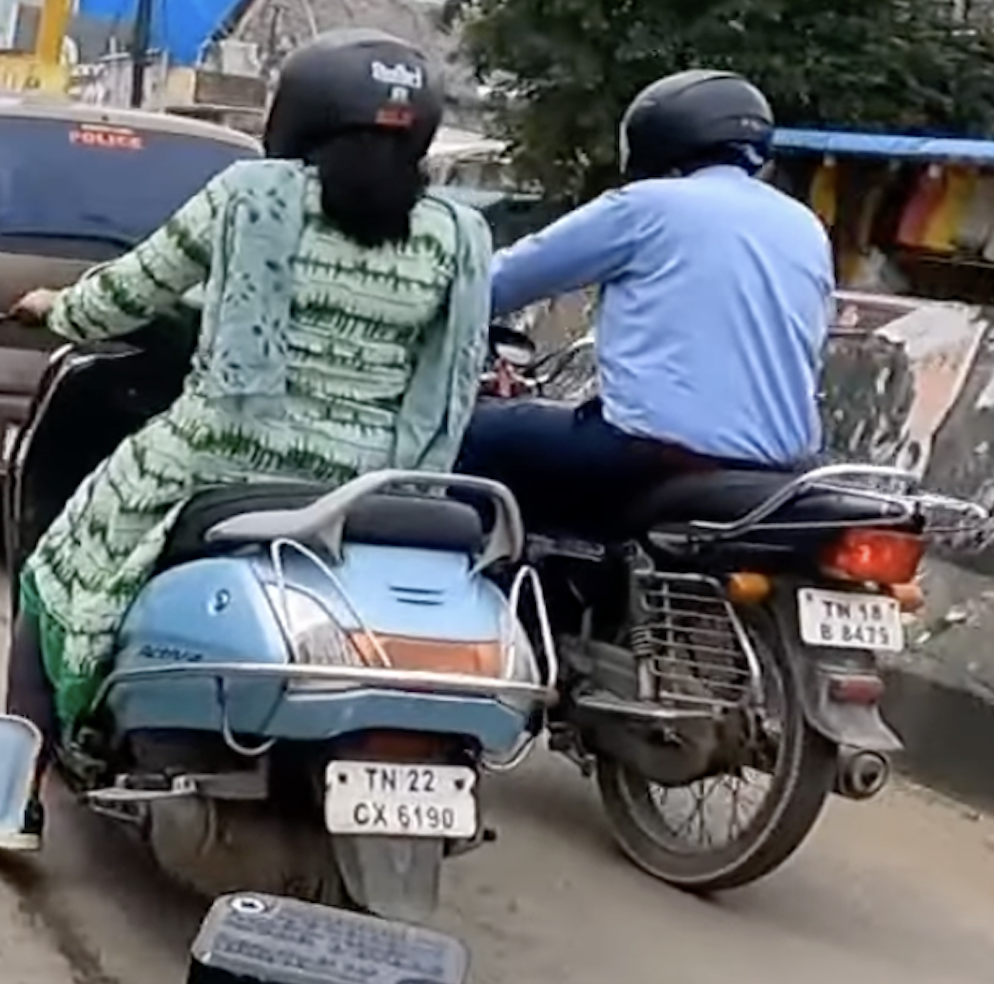motor: (5, 280, 547, 928), (469, 315, 936, 888)
number: (324, 755, 477, 838), (795, 585, 907, 652)
with helmet: (274, 27, 437, 170), (621, 65, 771, 175)
